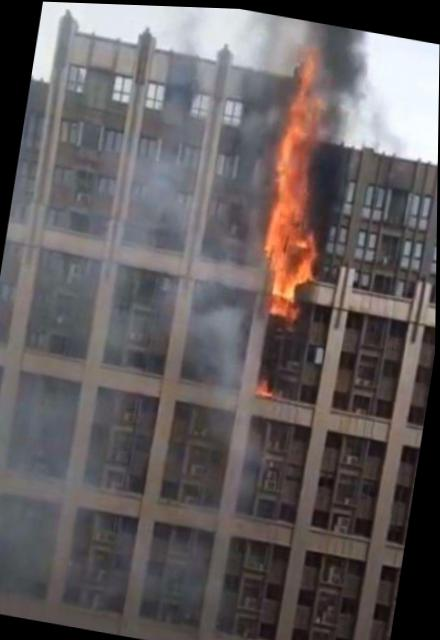fire: (248, 43, 354, 327), (251, 363, 278, 397)
